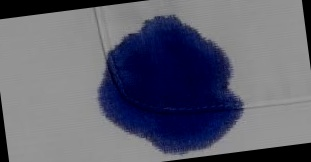ink: (106, 21, 236, 144)
